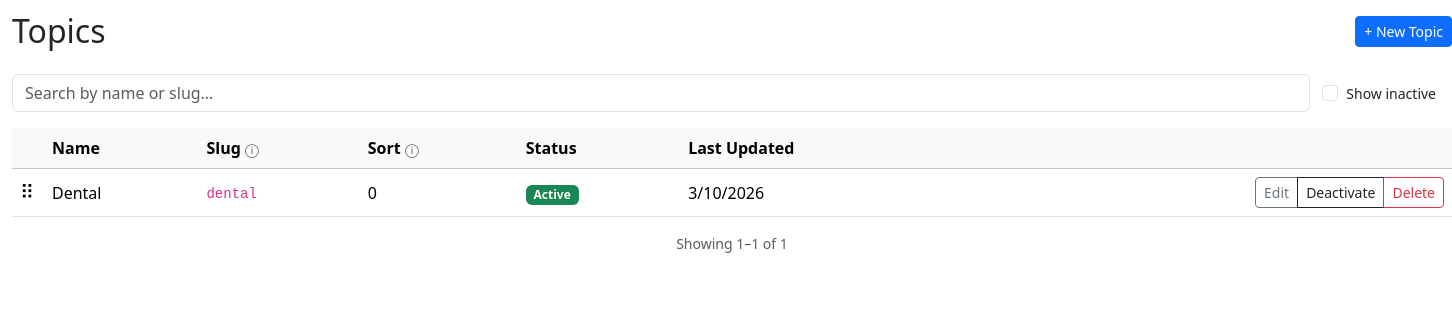
TopicsListPage › Search › filters rows by name
Expected: the text "Dental" is shown, top-left (44, 169), bottom-right (198, 217)
Click the checkbox labelled "Show inactive" at (1330, 93), box top-left (1322, 85), bottom-right (1338, 101)
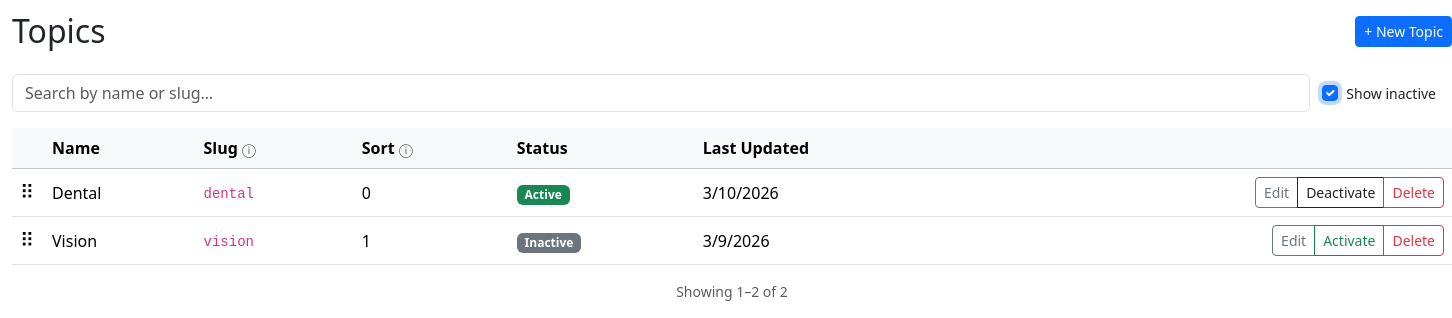
Type "vis" into the search field at (661, 93), box top-left (12, 74), bottom-right (1310, 112)
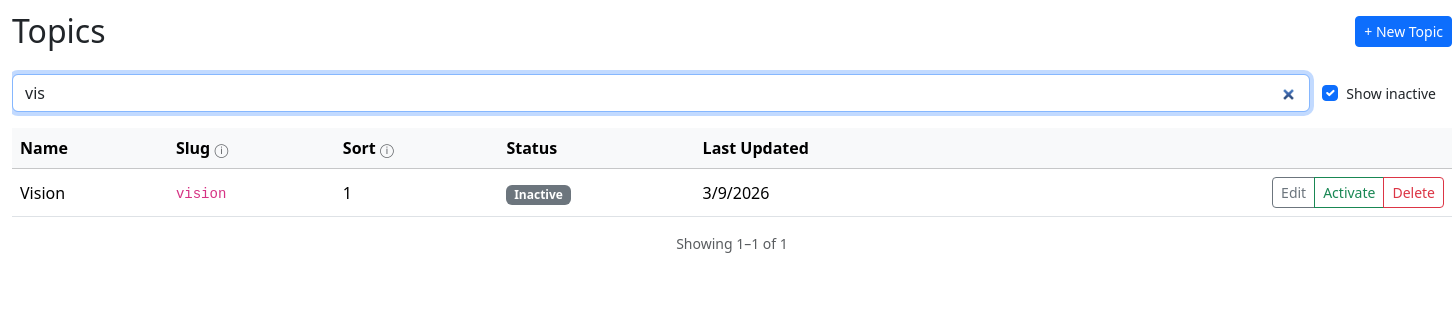
Now the text "Vision" is shown, box top-left (12, 169), bottom-right (168, 217)
Now the text "Dental" is gone
